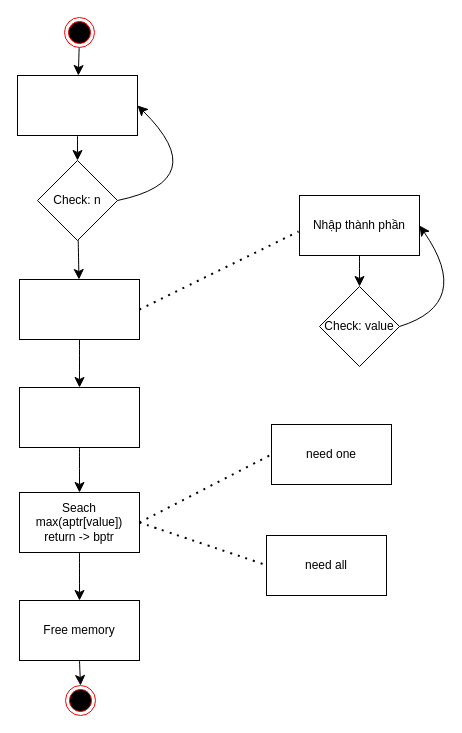
This 462x733 diagram has some shape labels left out. Here are the shapes that lost their labels. From the top down, the centre of each, then its label:
the point at 77,105: Nhap so luong: n
the point at 79,309: Nhập các phần tử trong cấp phát động: aptr
the point at 79,417: In ra danh sách theo thứ tự ngược cùng với add
